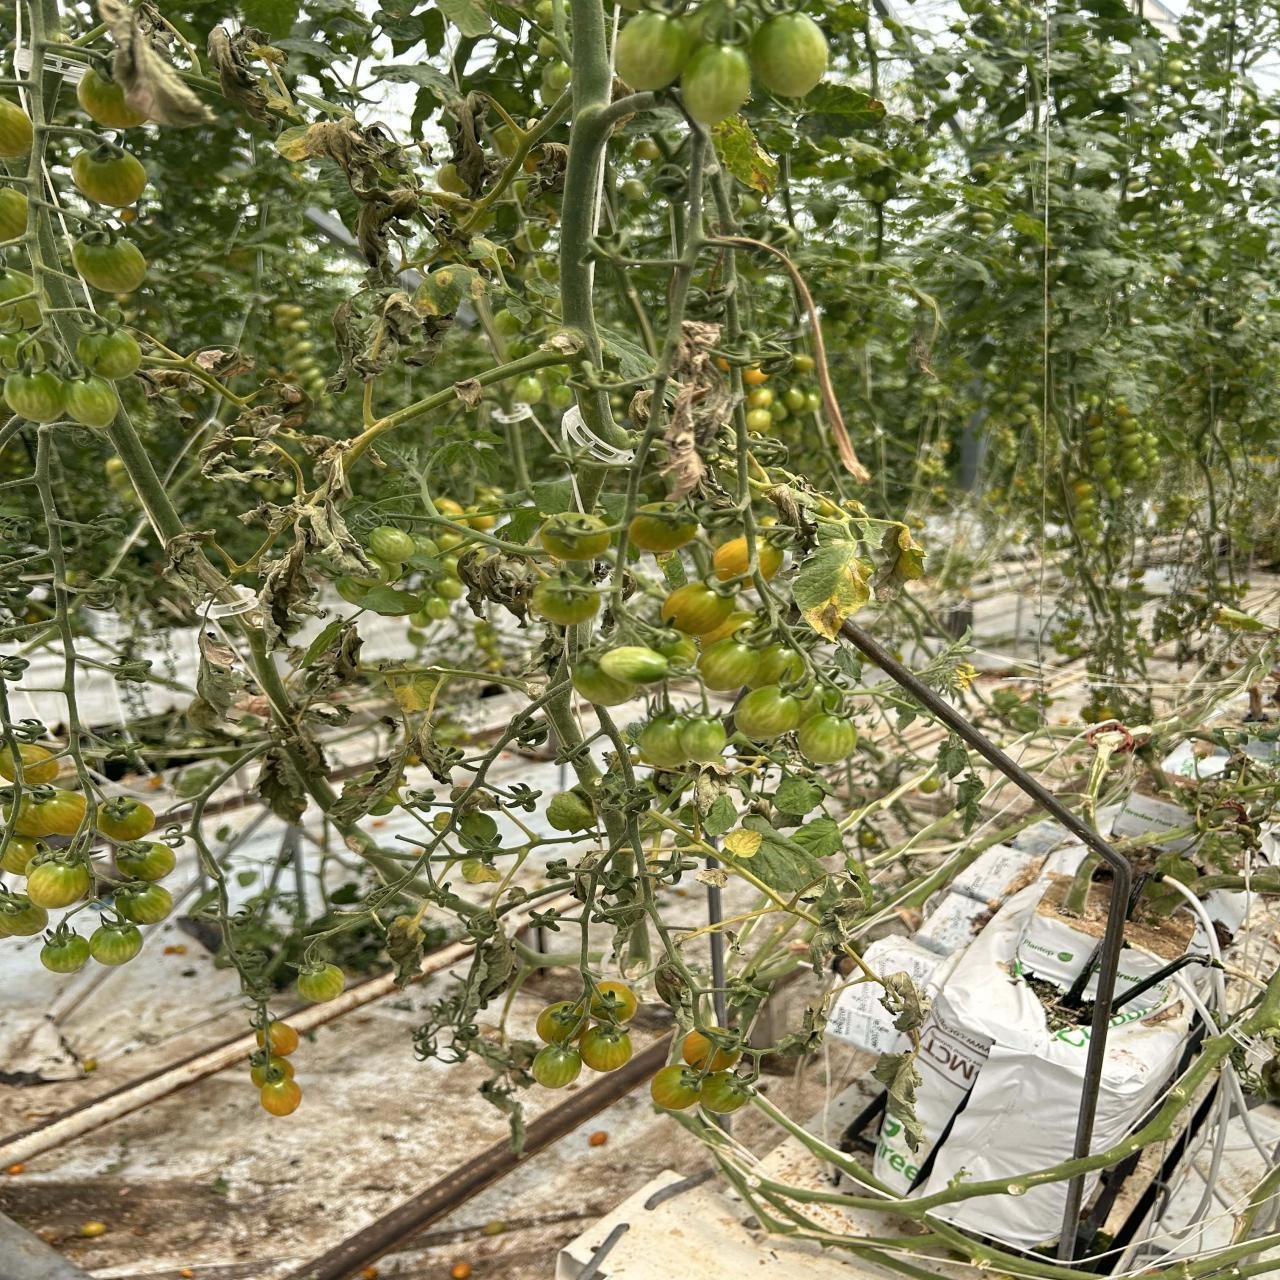Rugose stem: (239, 618, 559, 979), (610, 117, 717, 617), (345, 350, 561, 468), (461, 93, 572, 230), (27, 131, 82, 372), (108, 403, 184, 542)
Rugose tomato: (748, 12, 829, 97), (615, 11, 697, 90), (681, 45, 751, 124), (598, 646, 668, 685)
